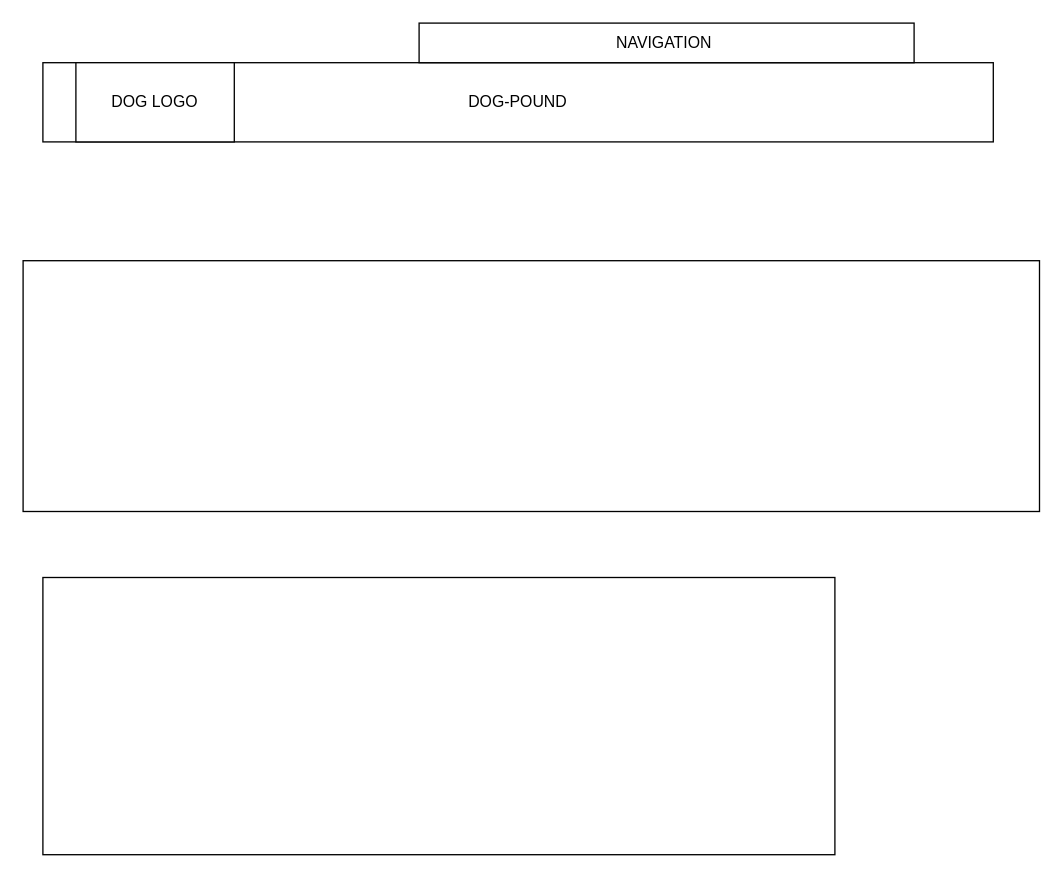
Some shapes in this 1063 by 878 pixel diagram are drawn without their labels. The shapes that lost their labels are listed below. From the top down, each one's centre as x and y in pixels, then its label:
At (x=531, y=385): "GALLERY CONTAINING 9 DOGS".
At (x=438, y=715): "APPLICATION FORM".
